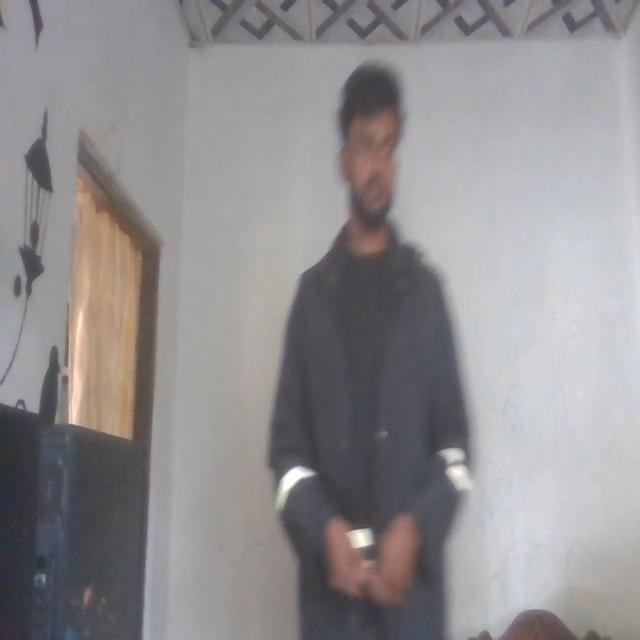Jacket_Wearer: (262, 208, 464, 640)
Person: (265, 56, 469, 640)
